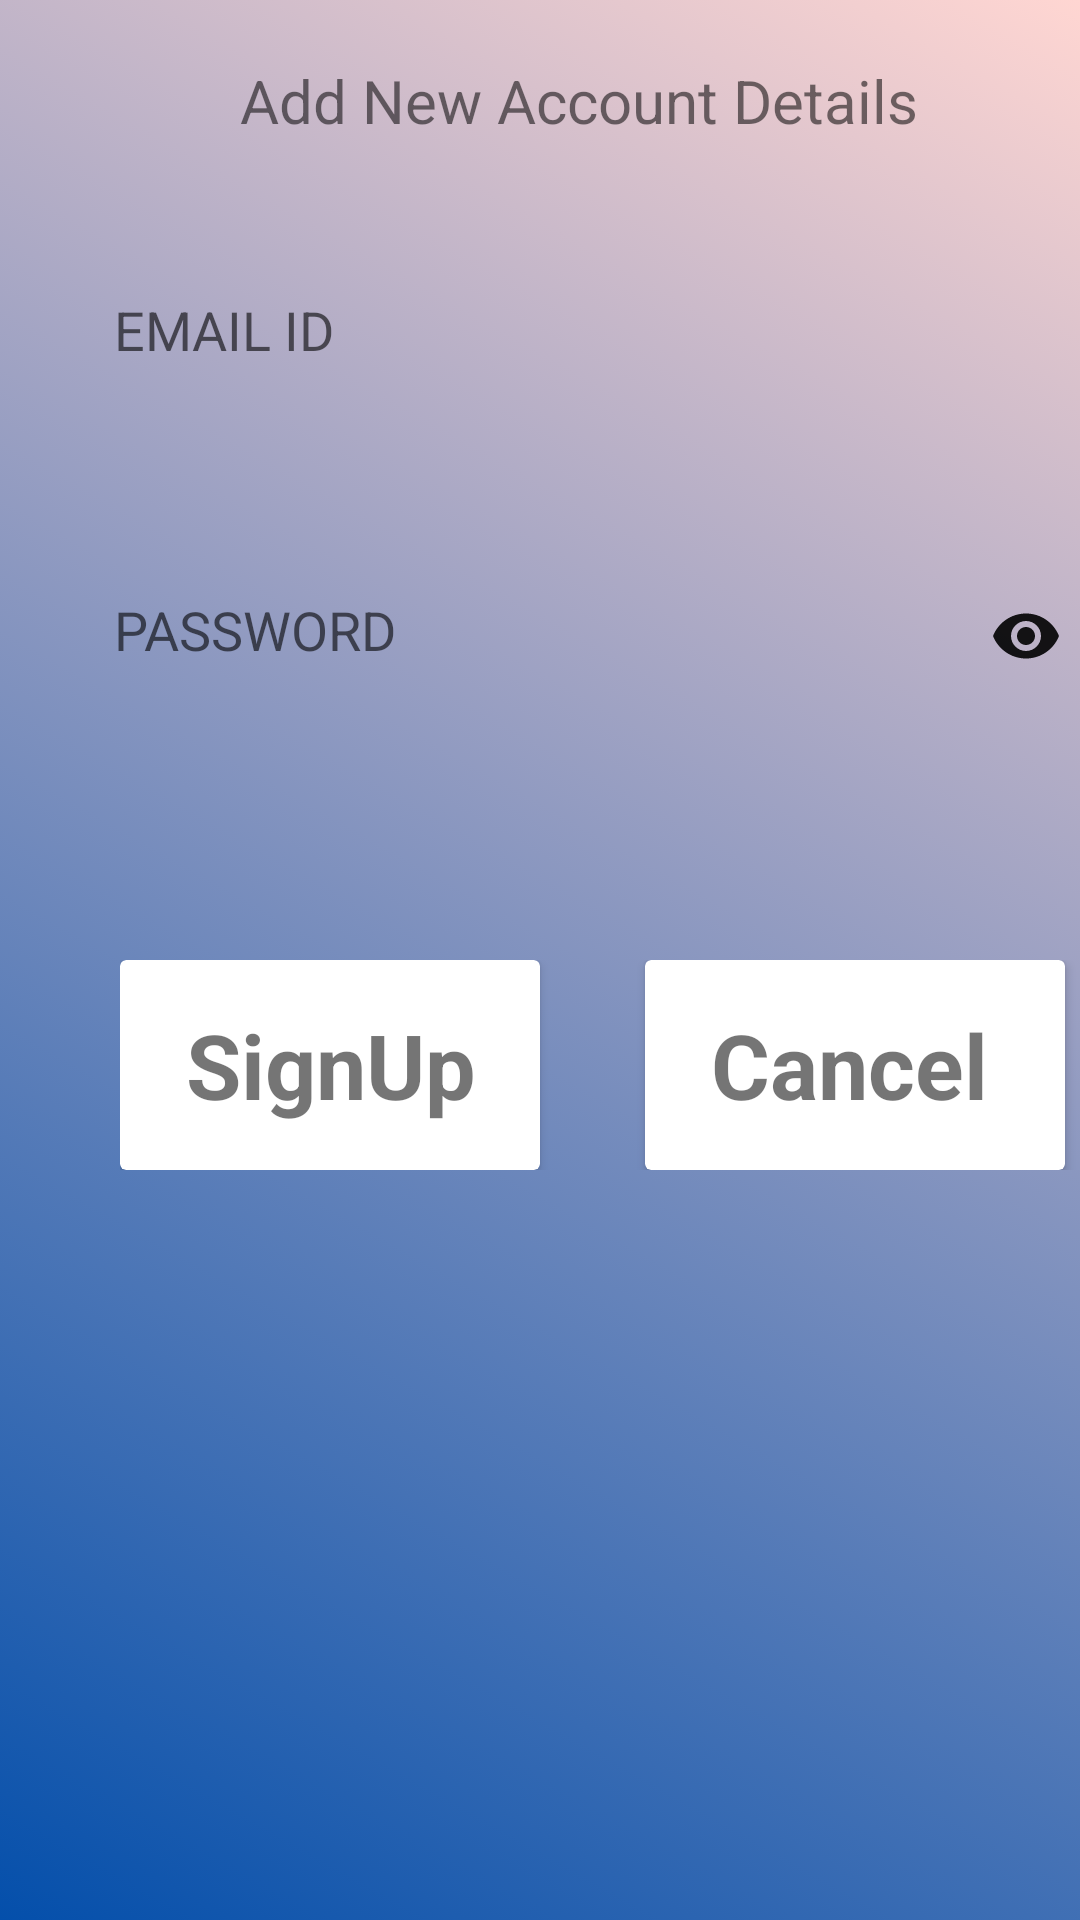

Icon bounding boxes for this 1080px×1920px phone screenshot, format (x1, y1, x2, y2):
eye: (993, 613, 1059, 659)
